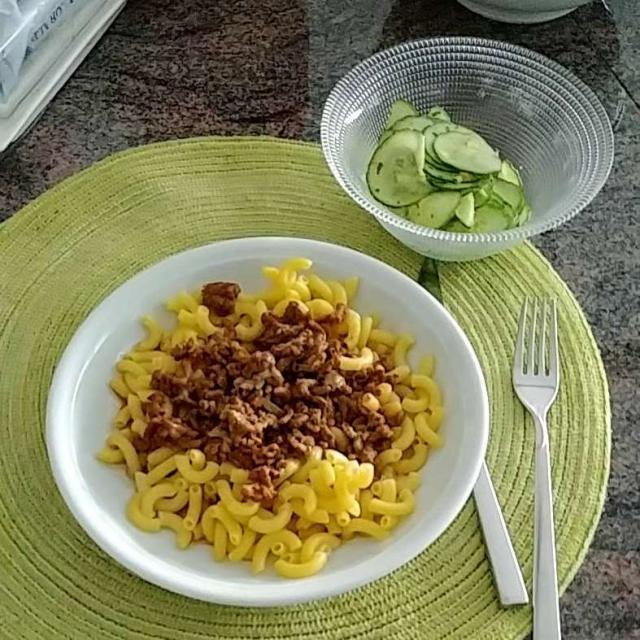cucumber: (370, 101, 524, 228)
minced-meat: (131, 279, 403, 496)
pasta: (104, 274, 440, 569)
